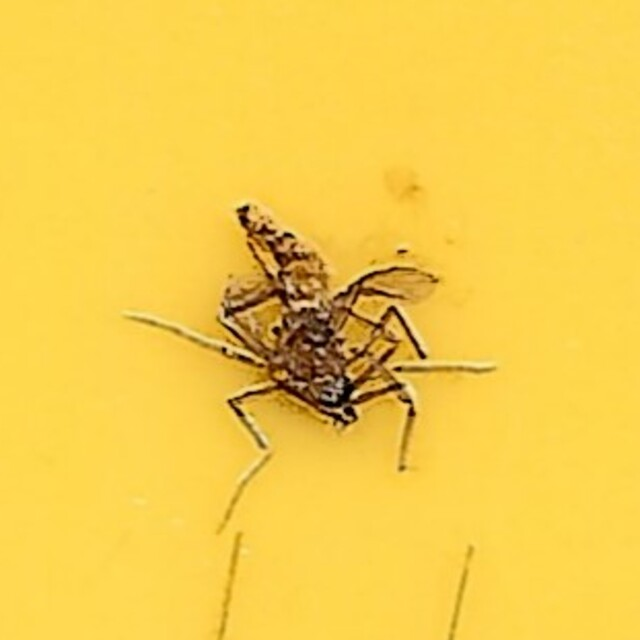Nematocera: (206, 191, 434, 449)
